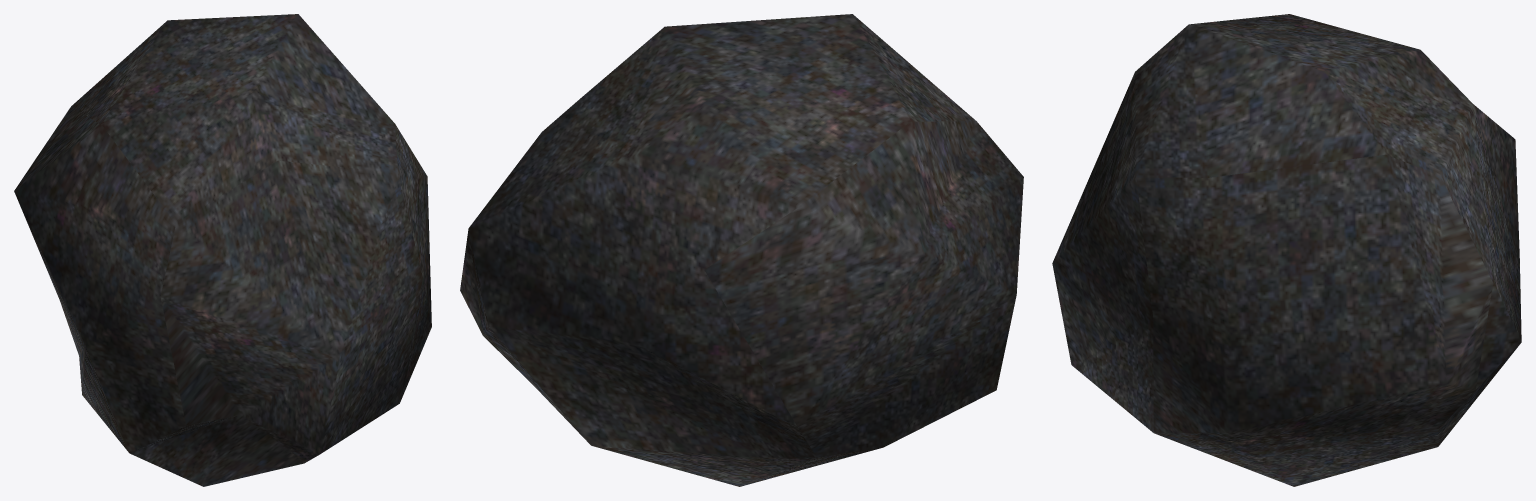
File: asteroid_metal_medium_s01_l3.fbx
3 renders of one model, left to right at view 1: azimuth 30°, elevation 25°; view 2: azimuth 150°, elevation 25°; view 3: azimuth 270°, elevation 25°, orthographic. The views are drawn at different scales.
Parts seen in each view (by area): view 1: mesh_node; view 2: mesh_node; view 3: mesh_node.
Boxes of the visible parts, x1,y1,x2,y2 form: mesh_node: (14, 14, 431, 486); mesh_node: (460, 14, 1023, 486); mesh_node: (1052, 14, 1521, 486).
Size of the model in its own units: 66.76 by 67.51 by 64.75.
